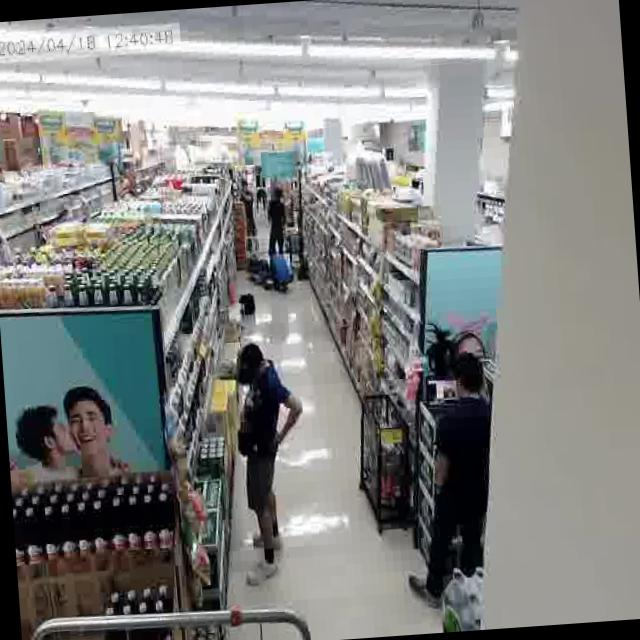shoplifting: (212, 325, 322, 592)
